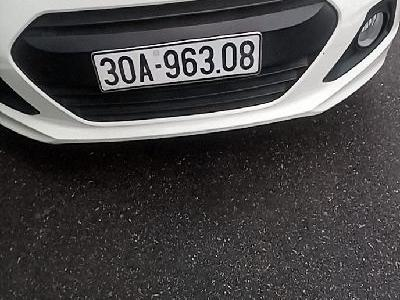car: (93, 32, 263, 94)
